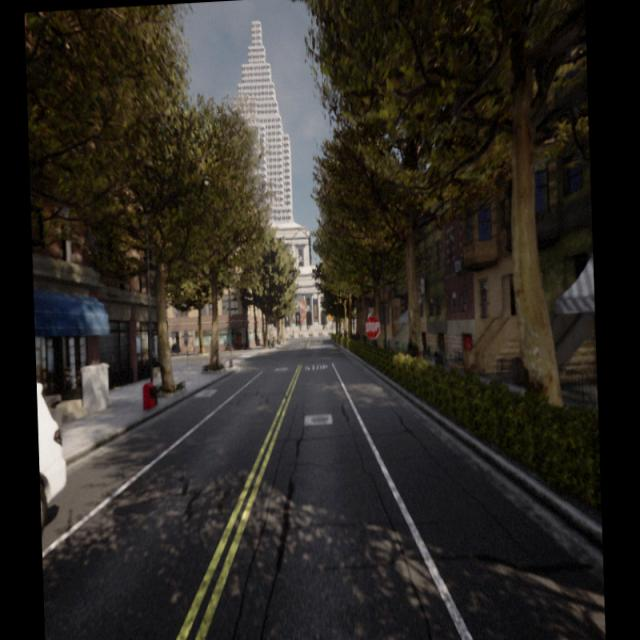stop sign: (362, 313, 382, 342)
